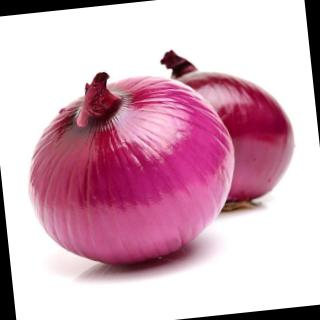Bawang Merah: (15, 58, 247, 277)
